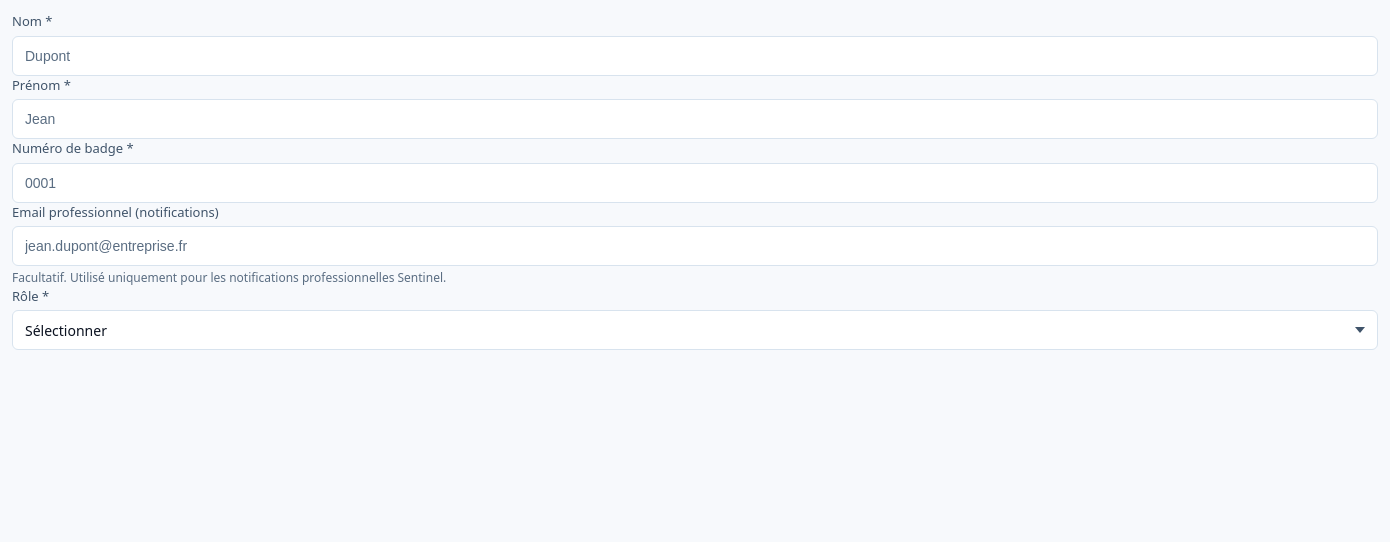
UserForm — rôles attribuables (RC5-8) › reste conforme même quand une valeur protégée préexiste dans l'état du formulaire (édition)
Step 1. Click the dropdown named "Rôle" → coordinates (66, 330), box [12,310,1378,350]
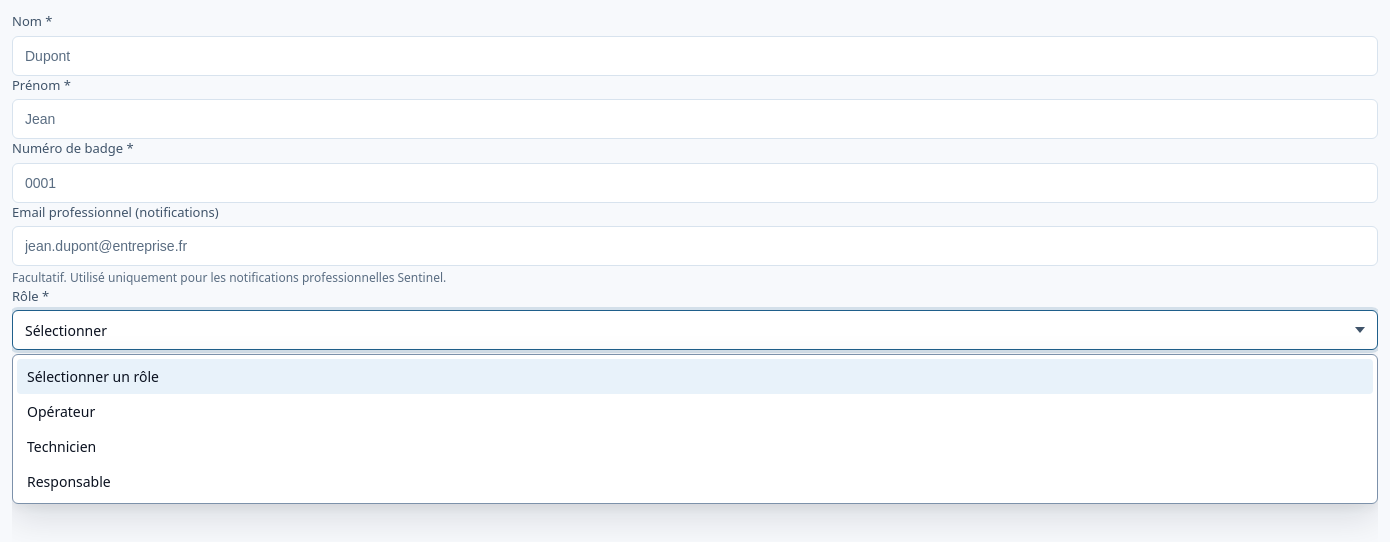
Now the option "Opérateur" is shown, box [17,394,1373,429]
